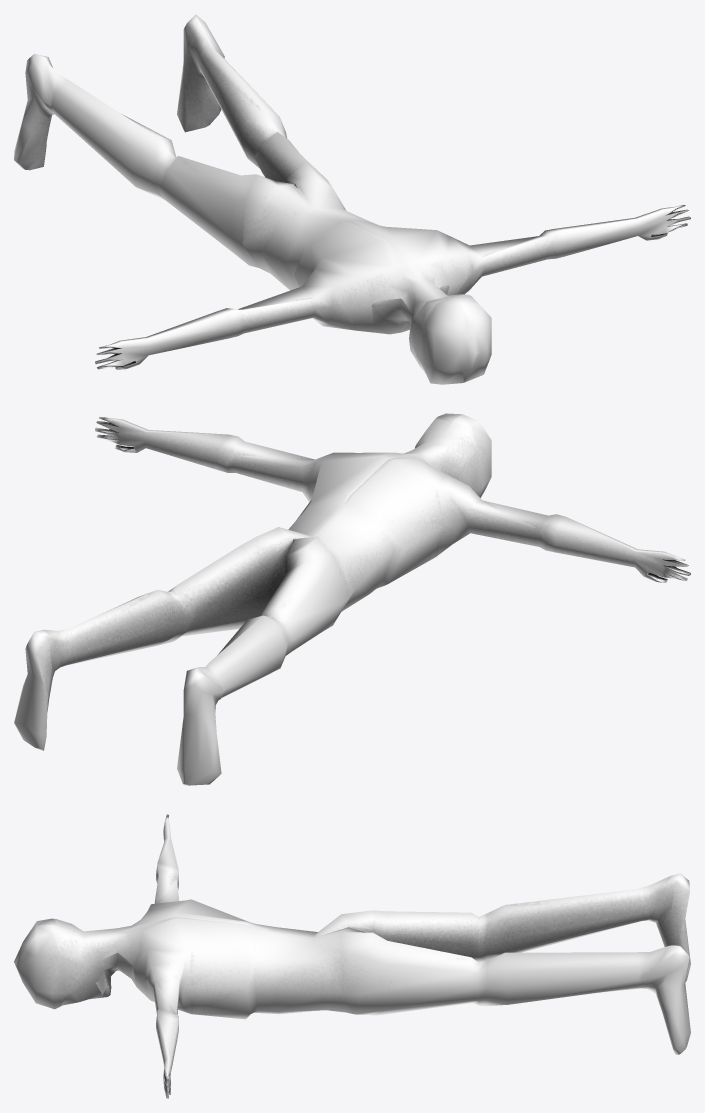
Rendered from postava.obj.
3 views of the same model, one above another, from view 1: azimuth 30°, elevation 25°; view 2: azimuth 150°, elevation 25°; view 3: azimuth 270°, elevation 25° (orthographic). The views are drawn at different scales.
Visible parts, largest first — view 1: 07_-_Default; view 2: 07_-_Default; view 3: 07_-_Default.
Part boxes in pixels (<box>): 07_-_Default: <box>14,14,690,384</box>; 07_-_Default: <box>14,413,690,785</box>; 07_-_Default: <box>14,814,690,1098</box>.
Bounding box in the file's own units: 1217 × 227 × 1295.
Materials: 1 (1 with a texture image).
